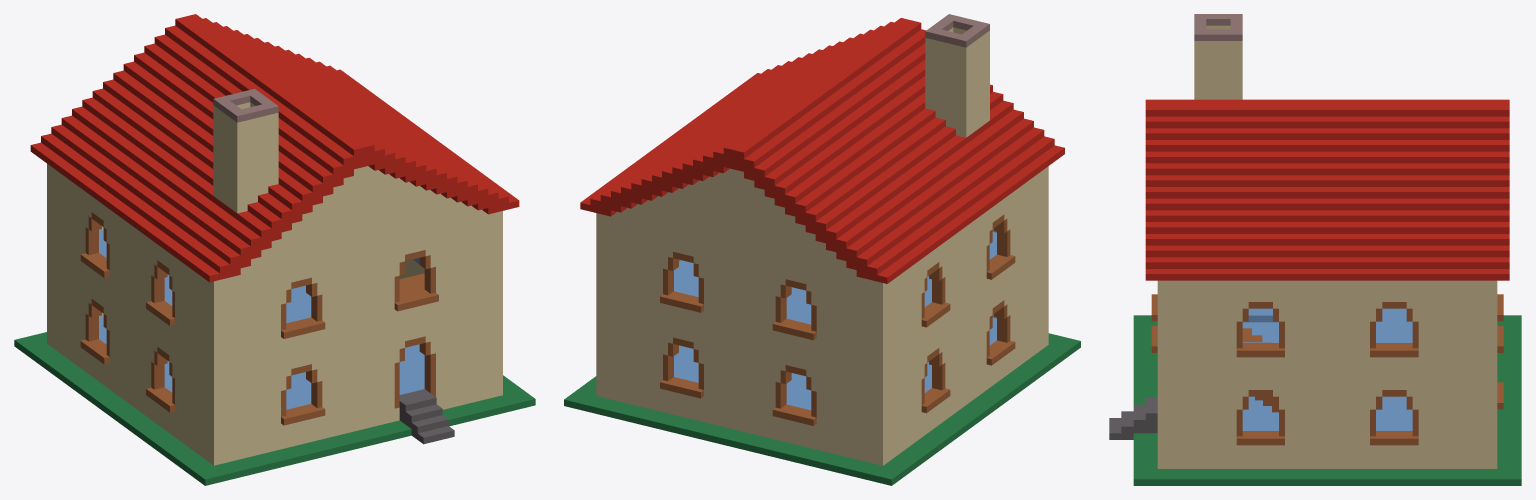
The model's file is ep5t-nha-lung-ga.glb.
3 views of the same model, side by side, from view 1: azimuth 30°, elevation 25°; view 2: azimuth 150°, elevation 25°; view 3: azimuth 270°, elevation 25° (orthographic). The views are drawn at different scales.
Parts seen in each view (by area): view 1: ep5t-nha-lung-ga; view 2: ep5t-nha-lung-ga; view 3: ep5t-nha-lung-ga.
Boxes of the visible parts, x1,y1,x2,y2 form: ep5t-nha-lung-ga: [14, 14, 535, 485]; ep5t-nha-lung-ga: [564, 14, 1080, 485]; ep5t-nha-lung-ga: [1109, 14, 1521, 485].
Bounding box in the file's own units: 64 × 61.6 × 68.
